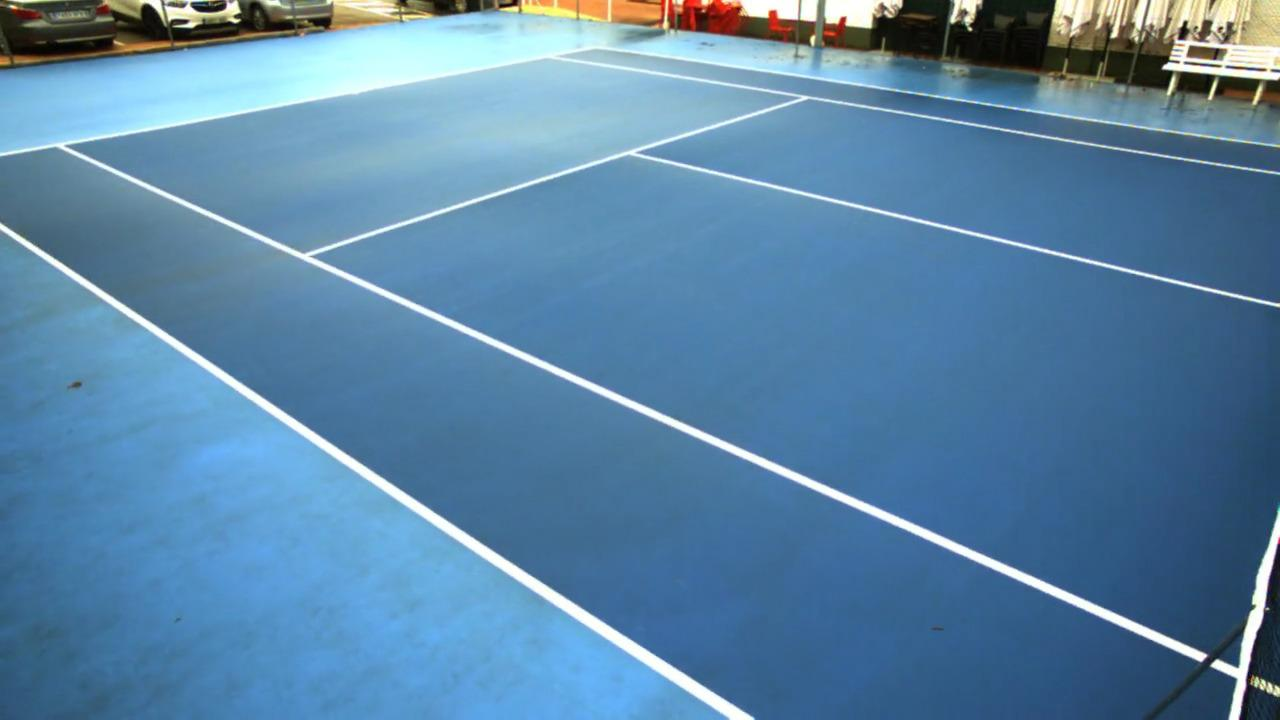cancha_tenis: (58, 58, 1280, 720)
point_f1: (48, 131, 84, 157)
point_f2: (540, 47, 566, 71)
point_fc1: (349, 83, 368, 103)
point_i1: (293, 244, 331, 271)
point_i2: (784, 84, 816, 109)
point_ic1: (611, 137, 646, 168)
